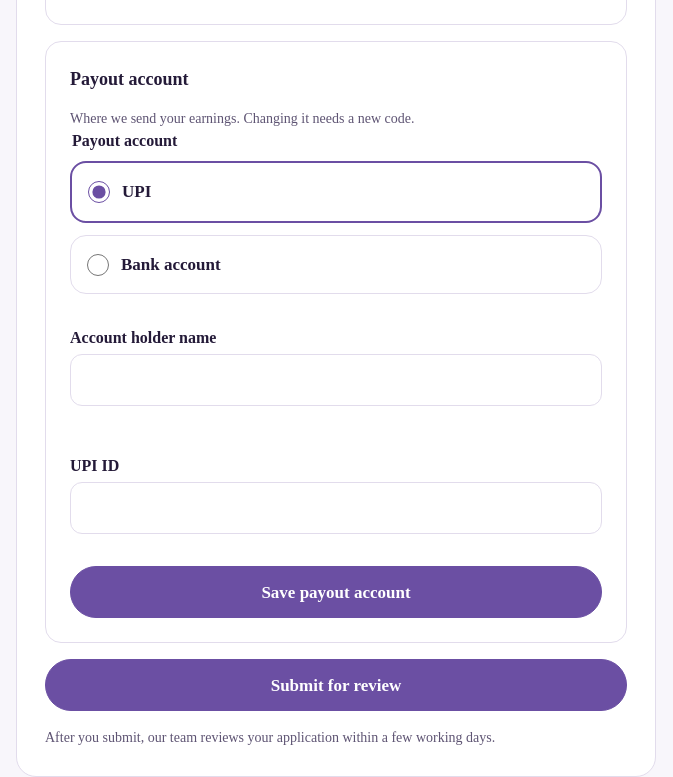
it: OnboardingView (J1) › PO-04 submits a complete application; a submitted one is read only
(page scrolled)
What coordinates should you click on to do the following:
click the button "Submit for review"
I would click on:
 (336, 685)
Its box is 45,659 -> 627,711.
(page scrolled)
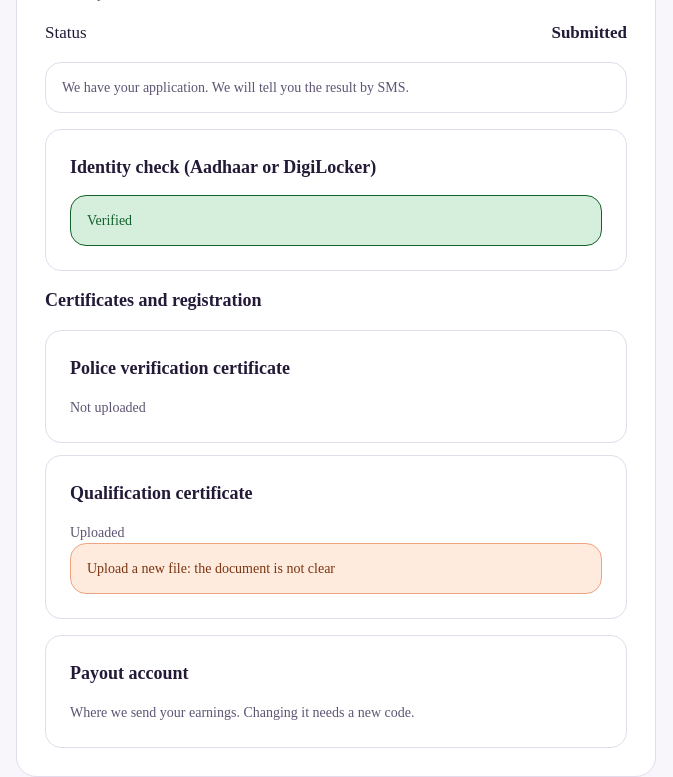
Check: the text "We have your application. We will tell you the result by SMS." is shown, box 62,76 -> 409,98
